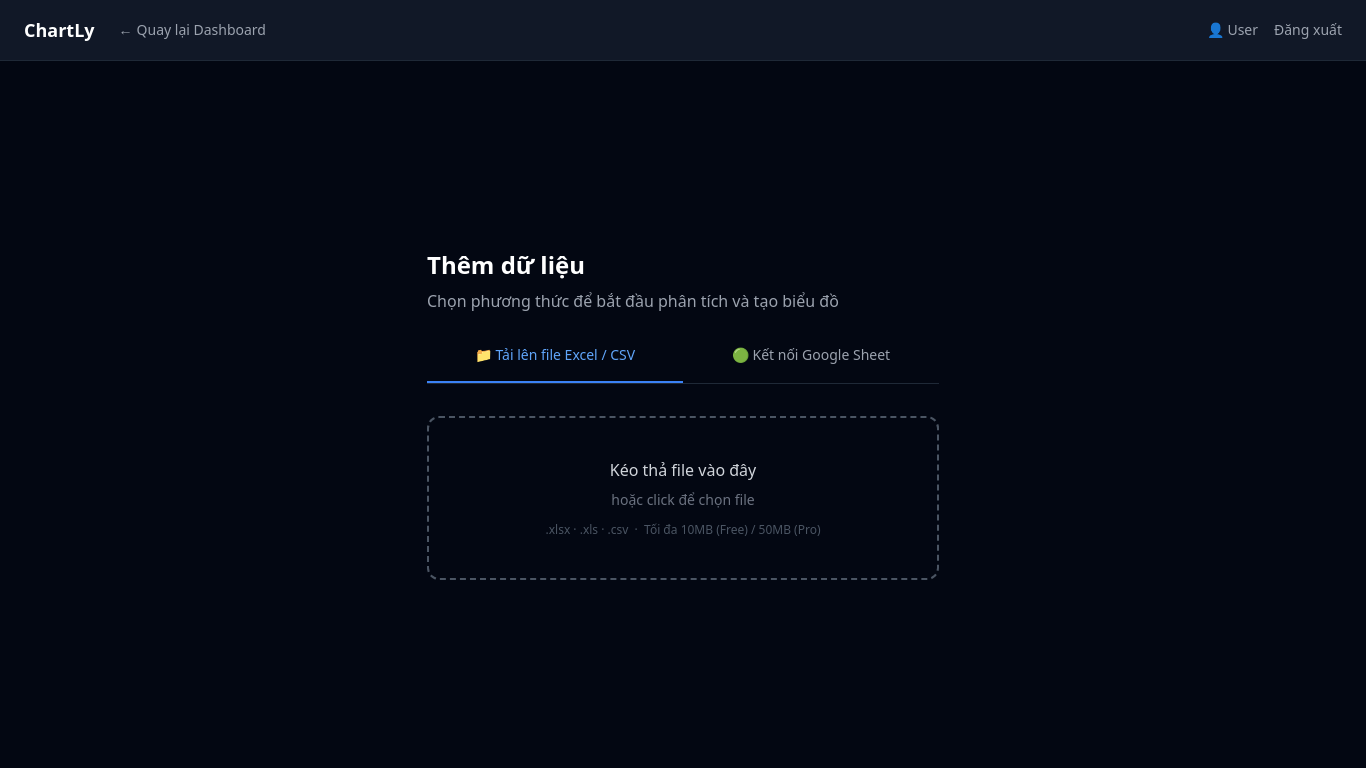
UploadPage › shows Google connection success status when googleConnected is true
Click the button "🟢 Kết nối Google Sheet" at (811, 364), box [683,345,939,383]
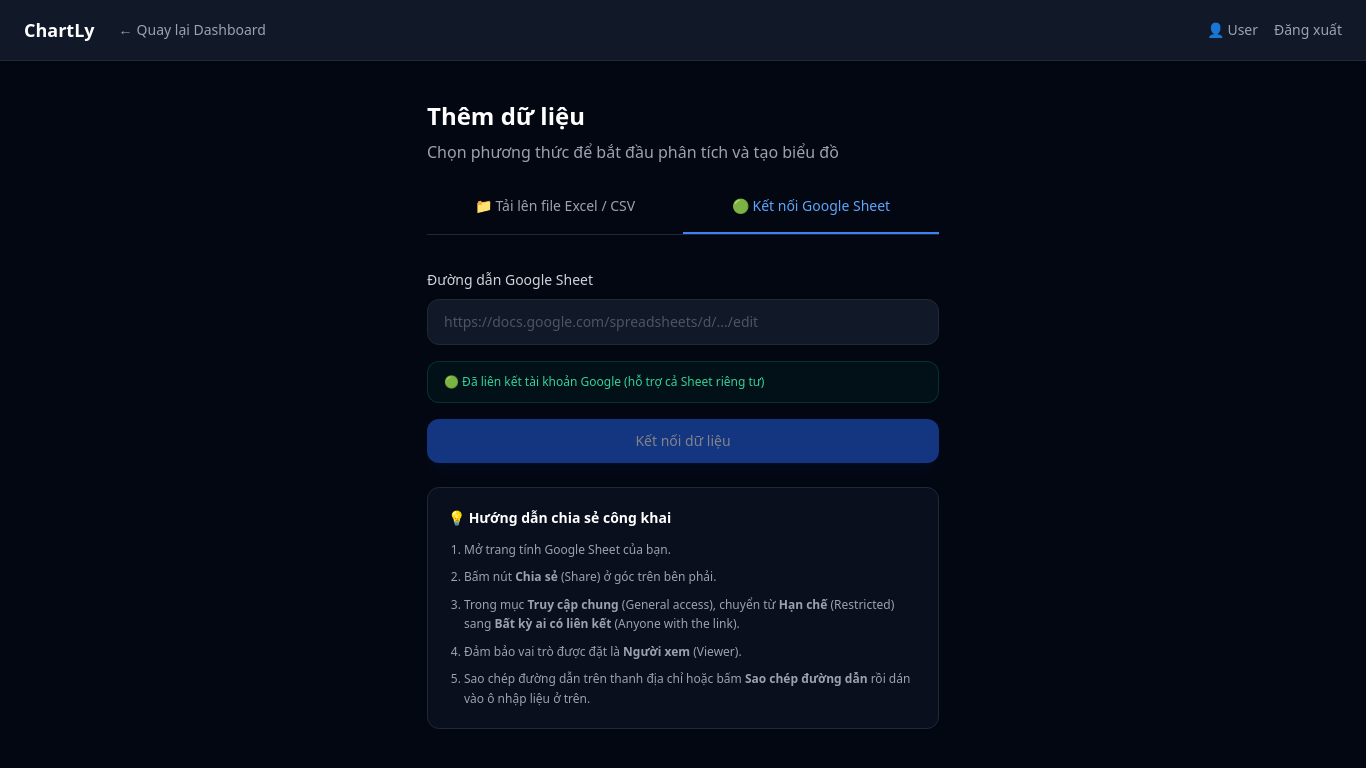
Check: the text "🟢 Đã liên kết tài khoản Google (hỗ trợ cả Sheet riêng tư)" is shown, box [444,374,764,390]
